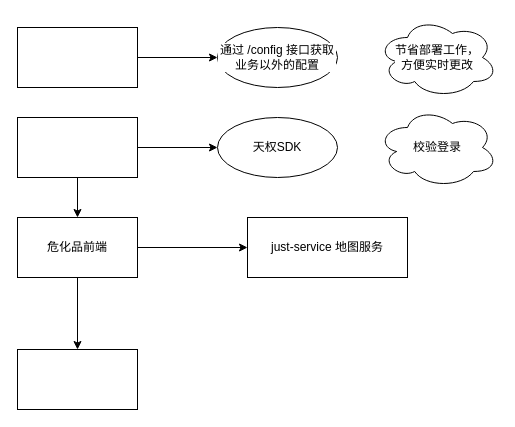
This 515x427 diagram has some shape labels left out. The shapes that lost their labels are listed below. From the top down, each one's centre as x and y in pixels, then its label:
At point 77,57: "Apollo 配置接口".
At point 77,147: "天权".
At point 77,379: "危化品后端业务接口".
